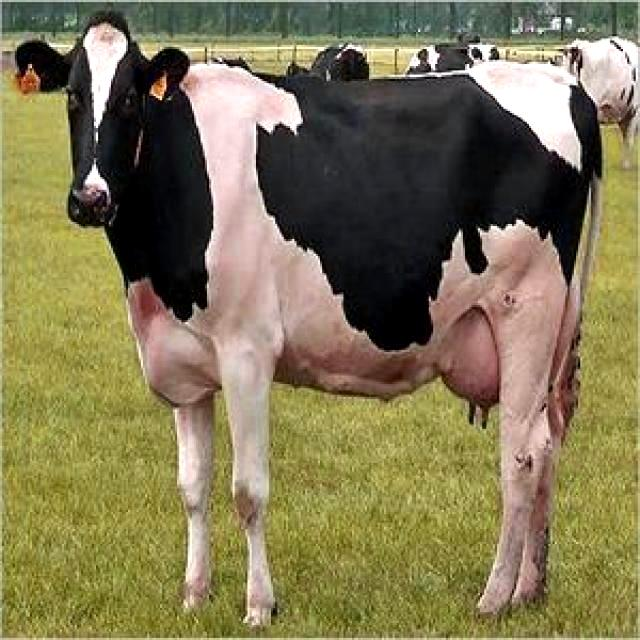COW: (18, 14, 601, 625)
